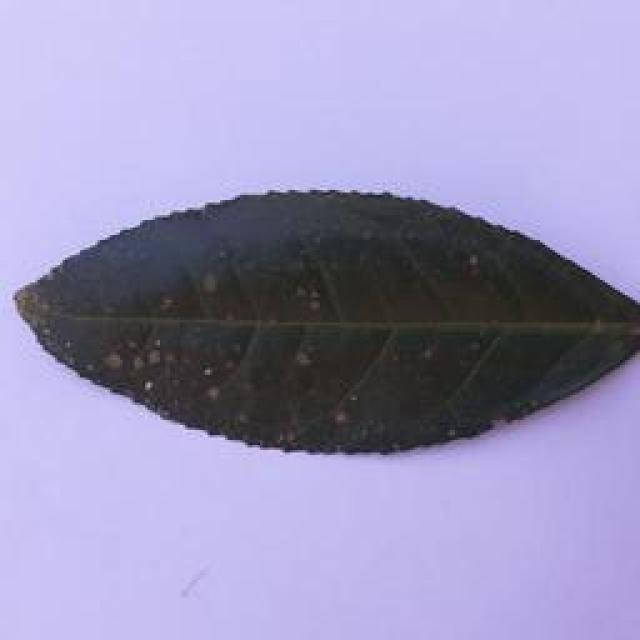Algal Leaf Spot: (6, 174, 640, 469)
